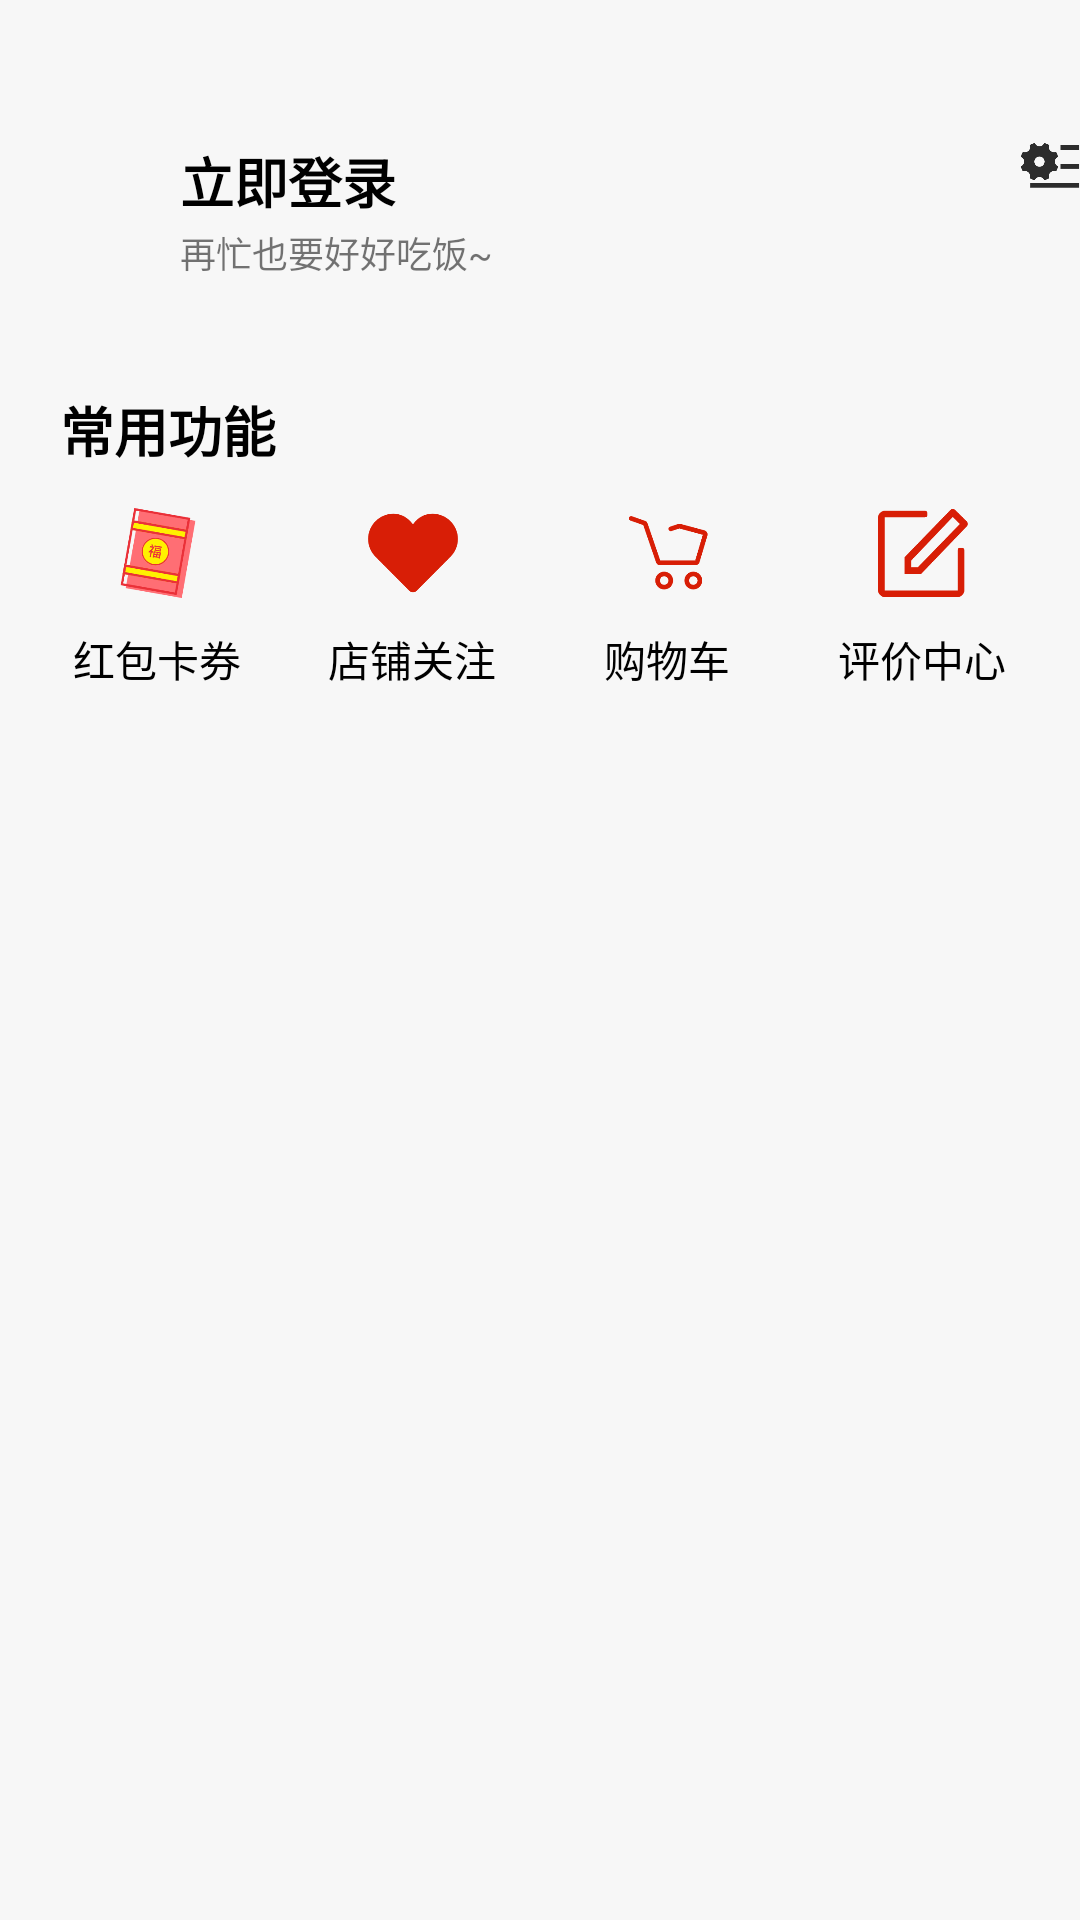

Screen size 1080w x 1920h. Icon name, then its box in pixels as bbox(x1, y1, x2, y2):
evaluate: bbox(878, 509, 968, 597)
follow: bbox(368, 513, 458, 592)
setting: bbox(1021, 143, 1079, 188)
shoppingcar: bbox(629, 516, 708, 590)
